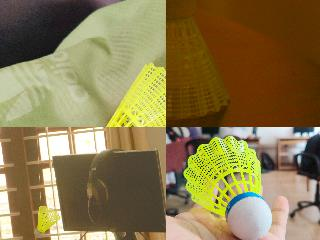shuttlecock: (183, 135, 272, 239), (166, 0, 230, 118), (78, 64, 165, 126), (34, 206, 60, 238)
